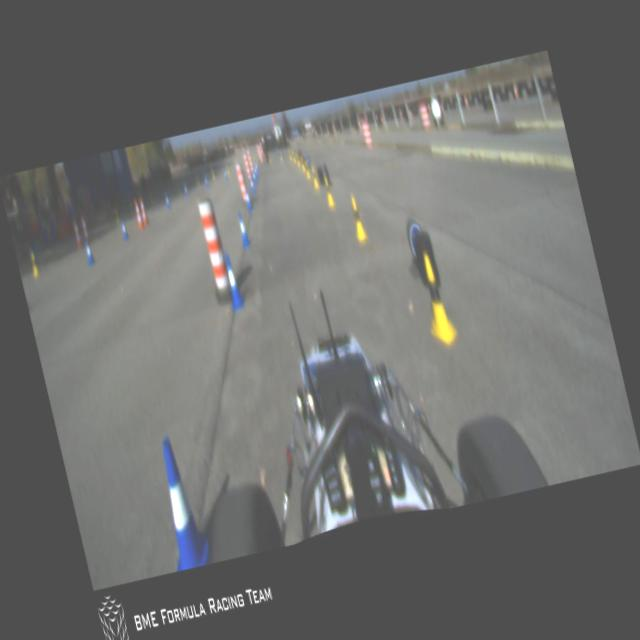blue_cone: (146, 432, 213, 570), (220, 252, 246, 311), (234, 211, 250, 247), (82, 238, 95, 264), (118, 217, 129, 241), (242, 187, 252, 211), (248, 176, 255, 193), (250, 170, 258, 184), (163, 192, 170, 208), (204, 175, 209, 187), (183, 184, 188, 195), (253, 164, 257, 176), (255, 164, 258, 172), (224, 169, 226, 178)
large_orange_cone: (71, 219, 84, 252), (137, 195, 149, 228), (132, 199, 144, 229), (80, 215, 90, 243)
yellow_cone: (413, 250, 460, 349), (346, 194, 368, 242), (322, 176, 335, 208), (28, 250, 40, 278), (309, 164, 320, 188), (302, 160, 310, 178), (113, 207, 120, 223), (298, 155, 304, 171), (294, 152, 300, 166), (194, 173, 200, 185), (252, 155, 258, 166), (238, 160, 244, 171), (291, 150, 296, 163), (287, 148, 292, 160), (278, 150, 282, 161), (267, 152, 271, 163), (226, 164, 230, 174), (210, 168, 214, 178)
